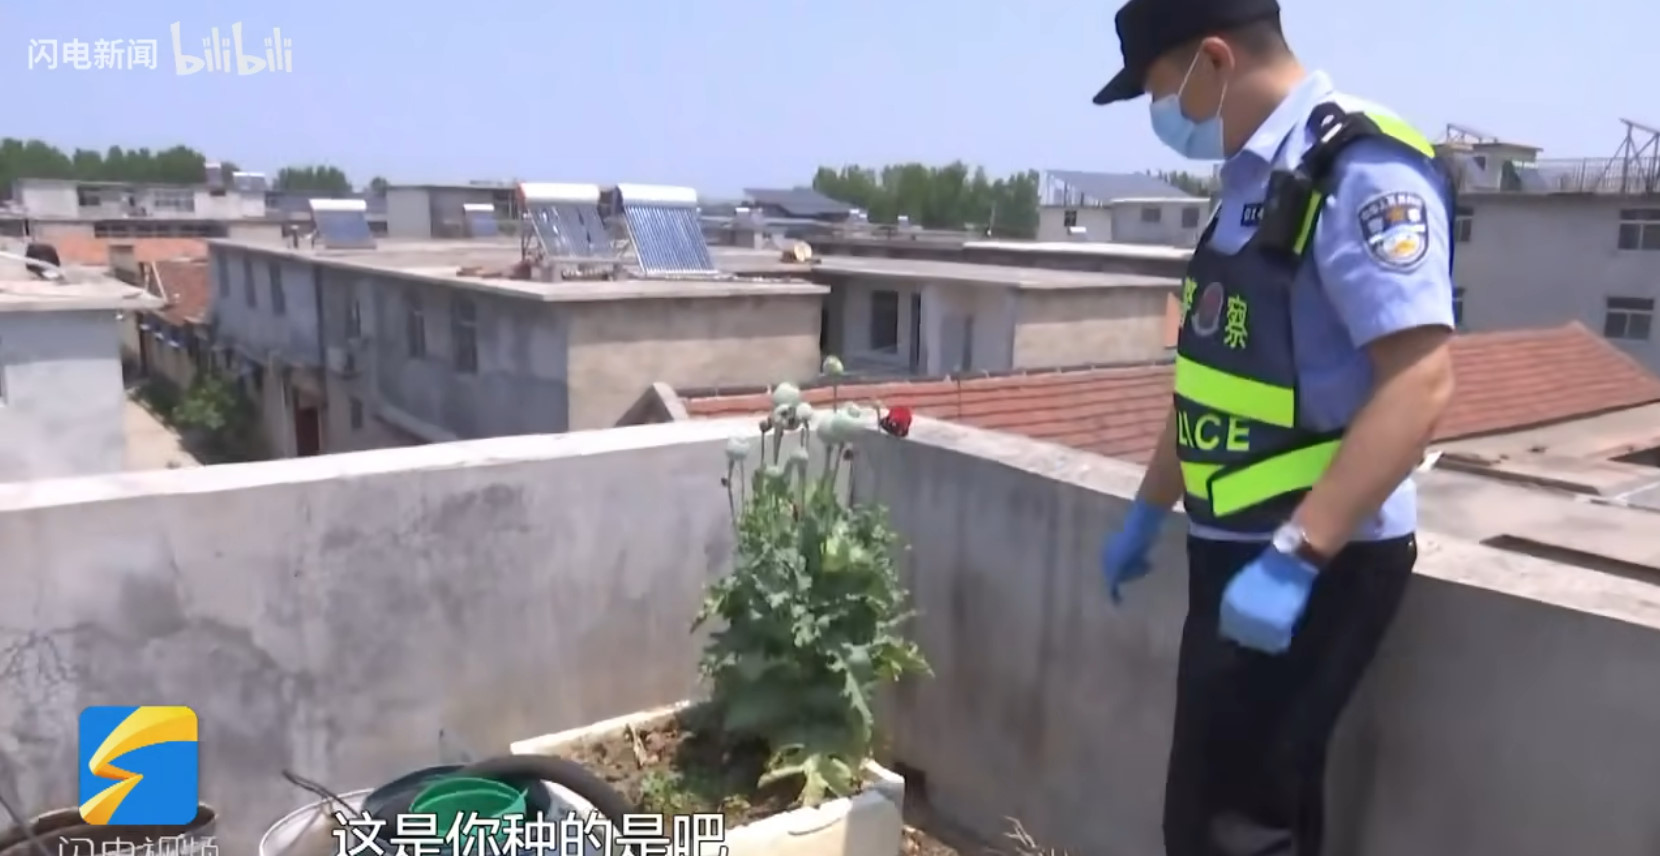Poppy: (700, 343, 933, 760)
